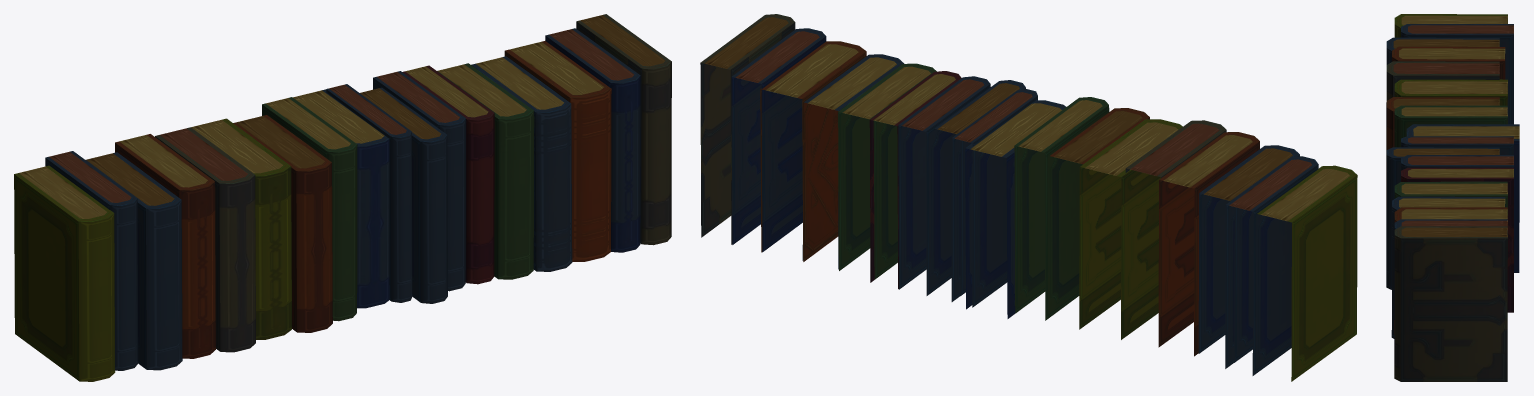
File: BookGroup_Medium_3.gltf
3 renders of one model, left to right at view 1: azimuth 30°, elevation 25°; view 2: azimuth 150°, elevation 25°; view 3: azimuth 270°, elevation 25°, orthographic. The views are drawn at different scales.
Parts seen in each view (by area): view 1: BookGroup_Medium_3; view 2: BookGroup_Medium_3; view 3: BookGroup_Medium_3.
Part boxes in pixels (x1,y1,x2,y2): BookGroup_Medium_3: [14, 14, 671, 381]; BookGroup_Medium_3: [700, 14, 1357, 381]; BookGroup_Medium_3: [1386, 14, 1519, 381].
Size of the model in its own units: 1.04 by 0.2949 by 0.2475.
Materials: 1 (1 with a texture image).
